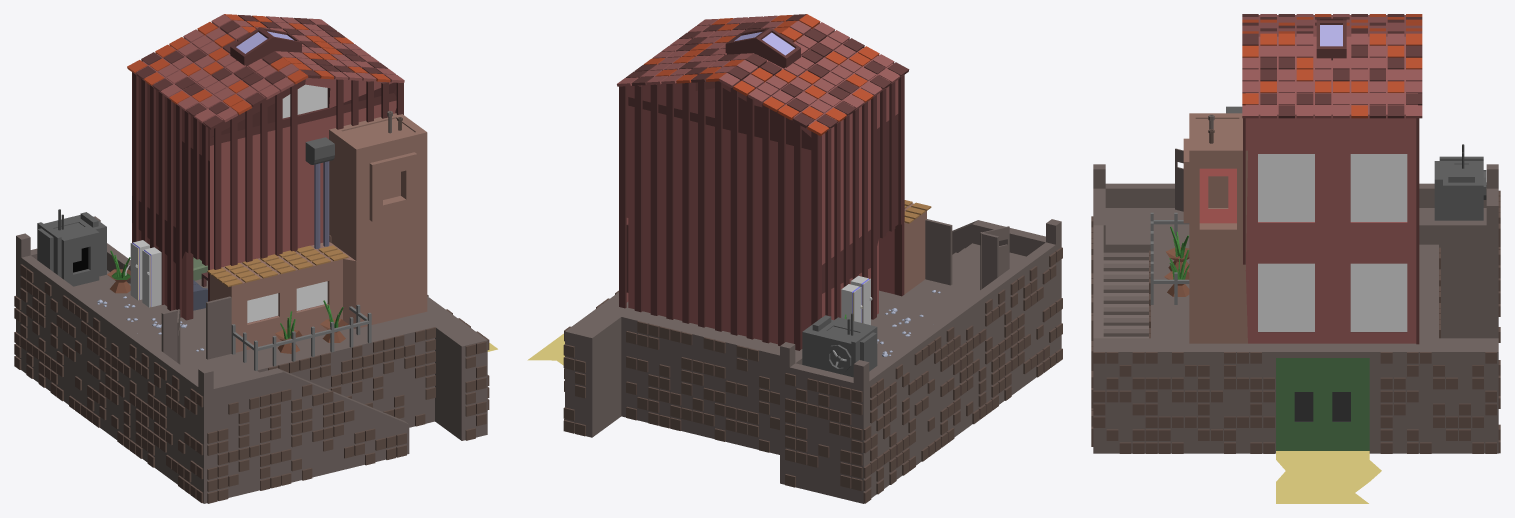
Rendered from House_3.fbx.
3 views of the same model, side by side, from view 1: azimuth 30°, elevation 25°; view 2: azimuth 150°, elevation 25°; view 3: azimuth 270°, elevation 25° (orthographic). The views are drawn at different scales.
Parts seen in each view (by area): view 1: Garage, Cube.006, Roof_1, Cube.002, Cube.005, Generator, Cube.034, Cube.026, Cube.021, Cube.019, Cube.018; view 2: Garage, Cube.006, Cube.002, Generator, Cube.005, Roof_1, Cube.021; view 3: Garage, Cube.006, Roof_1, Cube.002, Road, Cube.010, Cube.016, Cube.011, Cube.017, Generator, Cube.005.
Boxes of the visible parts, left/top/right/bottom form: Garage: left=14, top=216, right=489, bottom=503; Cube.006: left=127, top=14, right=404, bottom=269; Roof_1: left=207, top=111, right=427, bottom=324; Cube.002: left=132, top=196, right=327, bottom=323; Cube.005: left=210, top=278, right=427, bottom=352; Generator: left=37, top=209, right=106, bottom=286; Cube.034: left=142, top=247, right=161, bottom=307; Cube.026: left=282, top=84, right=327, bottom=118; Cube.021: left=130, top=240, right=149, bottom=300; Cube.019: left=247, top=293, right=278, bottom=322; Cube.018: left=296, top=281, right=327, bottom=310; Garage: left=563, top=219, right=1062, bottom=503; Cube.006: left=617, top=14, right=909, bottom=265; Cube.002: left=619, top=207, right=904, bottom=350; Generator: left=802, top=313, right=877, bottom=377; Cube.005: left=904, top=228, right=925, bottom=294; Roof_1: left=904, top=200, right=931, bottom=258; Cube.021: left=841, top=284, right=862, bottom=322; Garage: left=1091, top=148, right=1500, bottom=453; Cube.006: left=1242, top=14, right=1422, bottom=264; Roof_1: left=1183, top=106, right=1247, bottom=307; Cube.002: left=1245, top=252, right=1419, bottom=344; Road: left=1276, top=451, right=1381, bottom=503; Cube.010: left=1350, top=263, right=1407, bottom=331; Cube.016: left=1350, top=154, right=1407, bottom=221; Cube.011: left=1258, top=263, right=1314, bottom=331; Cube.017: left=1258, top=154, right=1314, bottom=221; Generator: left=1434, top=144, right=1486, bottom=220; Cube.005: left=1189, top=307, right=1247, bottom=343.
Size of the model in its own units: 15.77 by 13.82 by 13.63.
